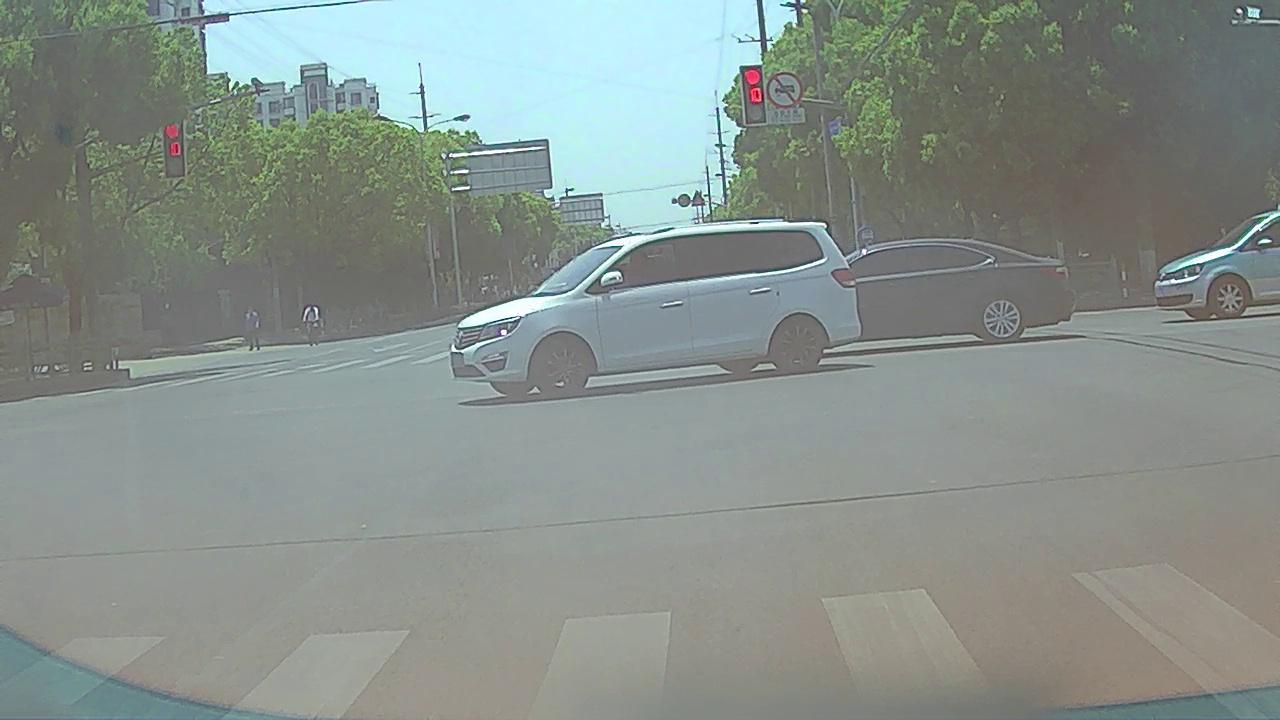traffic_light: (741, 67, 767, 123), (162, 118, 186, 177)
